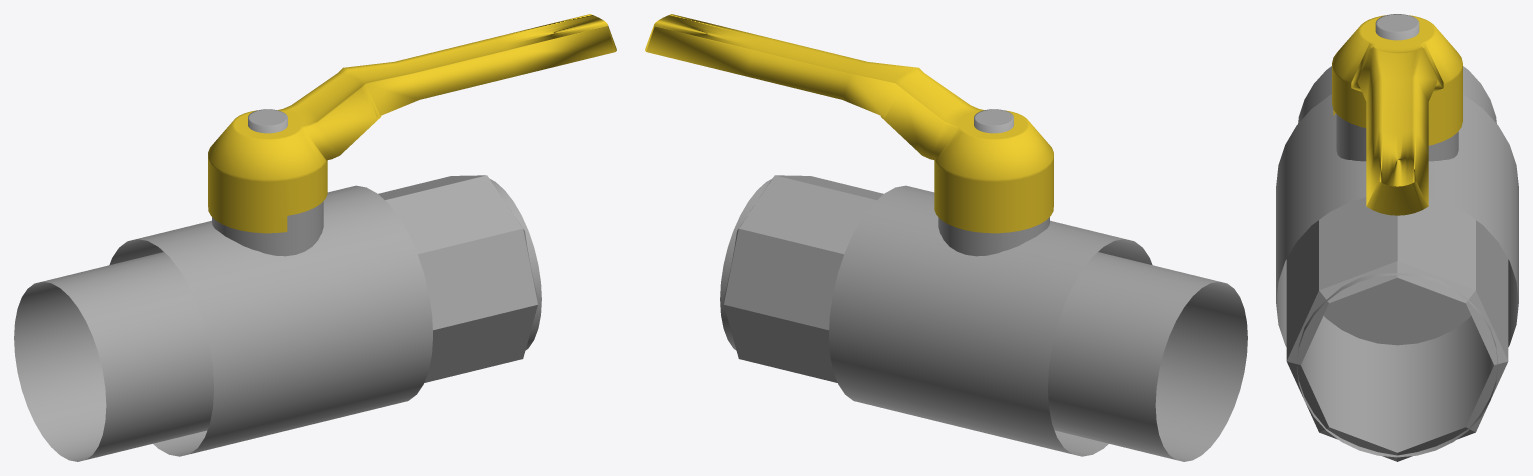
Rendered from zawor_kulowy_three2.glb.
The picture shows the model from 3 angles, left to right: view 1: azimuth 30°, elevation 25°; view 2: azimuth 150°, elevation 25°; view 3: azimuth 270°, elevation 25°; orthographic projection. The views are drawn at different scales.
Parts seen in each view (by area): view 1: Cylinder.004, Cylinder, Cylinder.005, Cylinder.003, Cylinder.002, Cylinder.006; view 2: Cylinder.004, Cylinder, Cylinder.005, Cylinder.003, Cylinder.002, Cylinder.006; view 3: Cylinder.003, Cylinder, Cylinder.004, Cylinder.005, Cylinder.002, Cylinder.006.
Part boxes in pixels (x1,y1,x2,y2): Cylinder.004: [109, 185, 432, 456]; Cylinder: [14, 178, 541, 461]; Cylinder.005: [208, 14, 616, 233]; Cylinder.003: [378, 175, 538, 382]; Cylinder.002: [212, 201, 323, 256]; Cylinder.006: [248, 109, 287, 133]; Cylinder.004: [829, 185, 1152, 456]; Cylinder: [720, 178, 1247, 461]; Cylinder.005: [645, 14, 1053, 233]; Cylinder.003: [723, 175, 883, 382]; Cylinder.002: [938, 217, 1049, 256]; Cylinder.006: [974, 109, 1013, 133]; Cylinder.003: [1286, 197, 1508, 461]; Cylinder: [1297, 66, 1497, 457]; Cylinder.004: [1276, 94, 1518, 346]; Cylinder.005: [1332, 15, 1462, 215]; Cylinder.002: [1336, 114, 1458, 161]; Cylinder.006: [1375, 14, 1419, 40].
Size of the model in its own units: 3.39 by 1.91 by 1.19.
